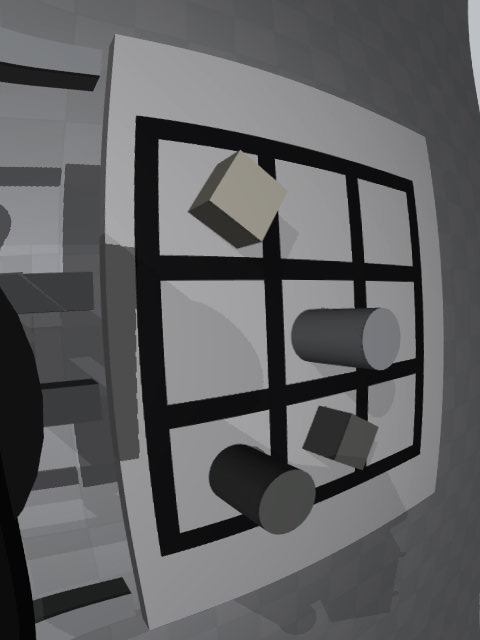can: (291, 308, 401, 370)
cube: (302, 406, 379, 470)
cylinder: (209, 444, 316, 534)
foam: (188, 150, 288, 248)
